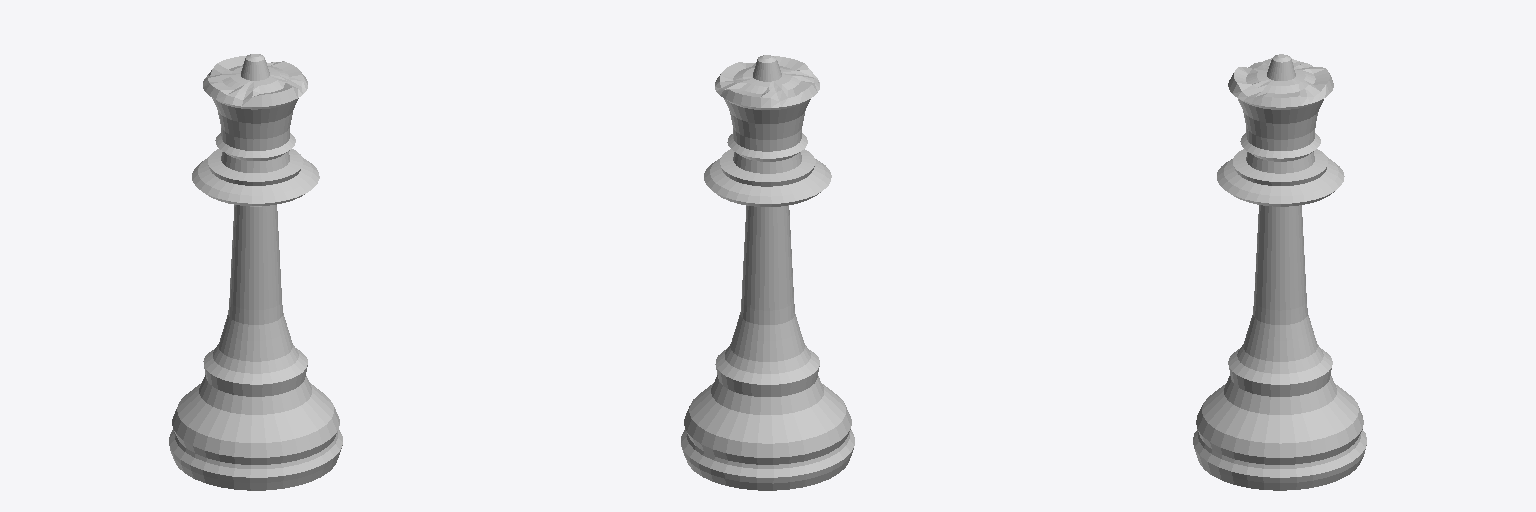
Rendered from queen.obj.
3 renders of one model, left to right at view 1: azimuth 30°, elevation 25°; view 2: azimuth 150°, elevation 25°; view 3: azimuth 270°, elevation 25°, orthographic.
Visible parts, largest first — view 1: queen; view 2: queen; view 3: queen.
Part boxes in pixels (x1,y1,x2,y2): queen: (169, 54, 342, 490); queen: (681, 55, 854, 490); queen: (1193, 54, 1366, 490).
Bounding box in the file's own units: 1.44 × 3.64 × 1.44.